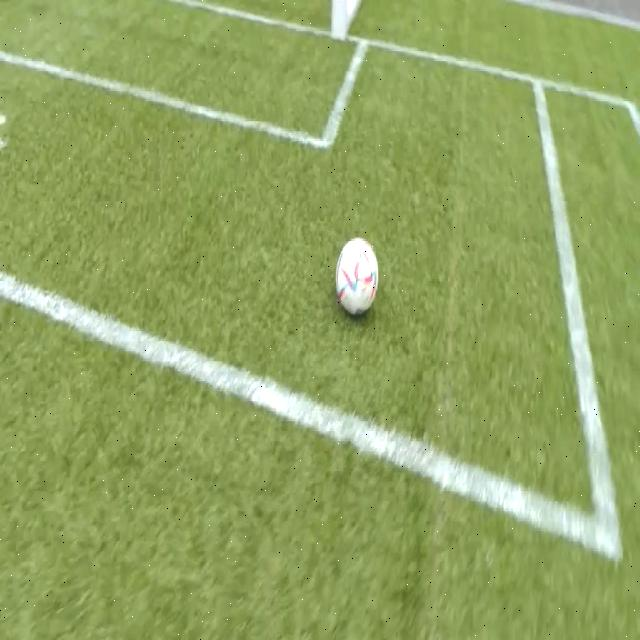ball: (336, 238, 378, 314)
goalpost: (326, 0, 358, 50)
